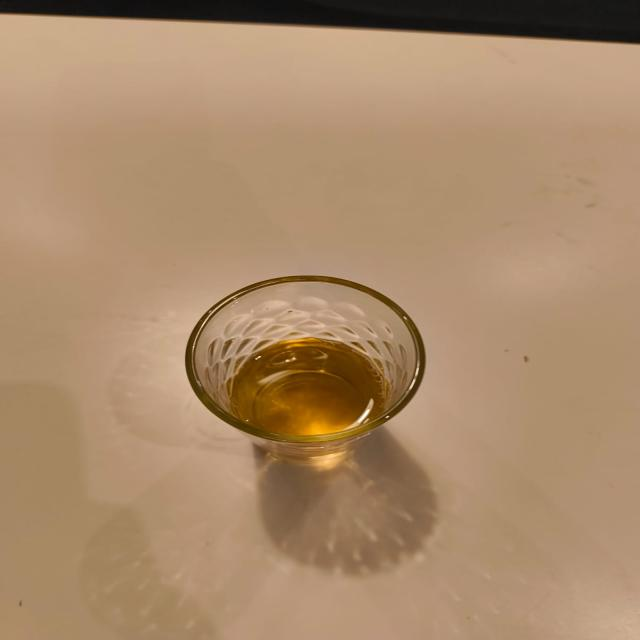filled g2: (183, 273, 428, 460)
liquid: (232, 337, 389, 438)
